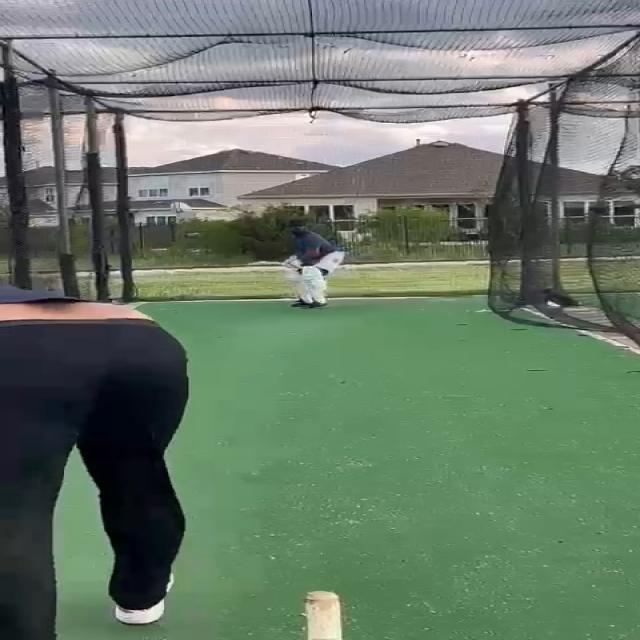batsman: (247, 218, 348, 310)
